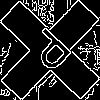P: (25, 25, 81, 81)
